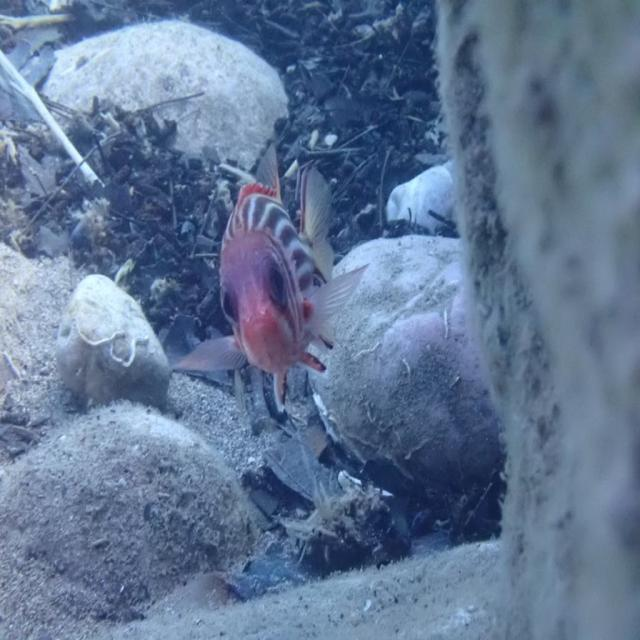Asker Baligi: (171, 142, 370, 415)
